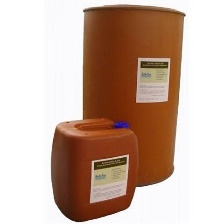cleaning_solution: (47, 115, 140, 222)
